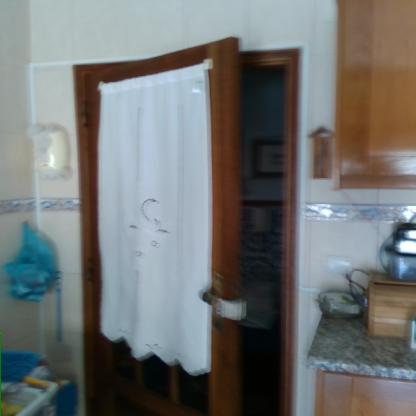semi: (78, 34, 322, 416)
